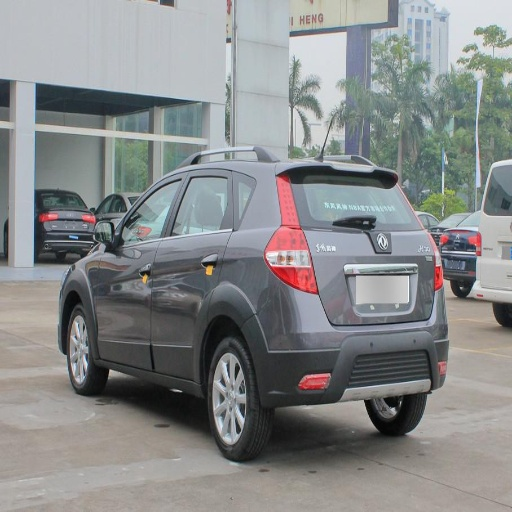back_bumper: (249, 281, 446, 409)
back_glass: (296, 169, 416, 223)
back_left_door: (151, 169, 234, 374)
